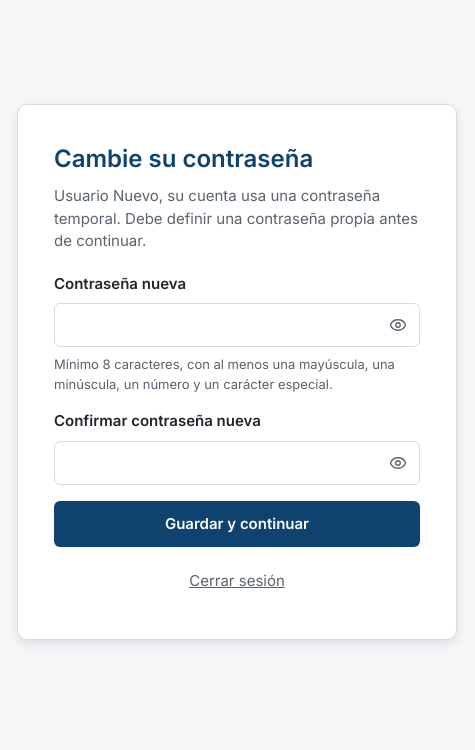
Scenario: HU-044 - Cambio obligatorio de contraseña en el primer ingreso › definir la contraseña nueva › muestra las violaciones de la politica que devuelve el backend y permanece en la pantalla
This screenshot has width=475, height=750.
Type "SinNumeroNiEspecial" into the password field labelled "Contraseña nueva" at (237, 325), box [54,303,420,347]
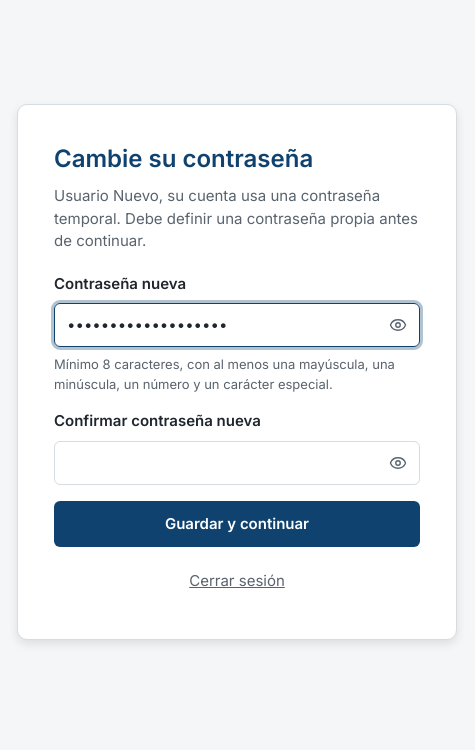
Type "SinNumeroNiEspecial" into the password field labelled "Confirmar contraseña nueva" at (237, 463), box [54,441,420,485]
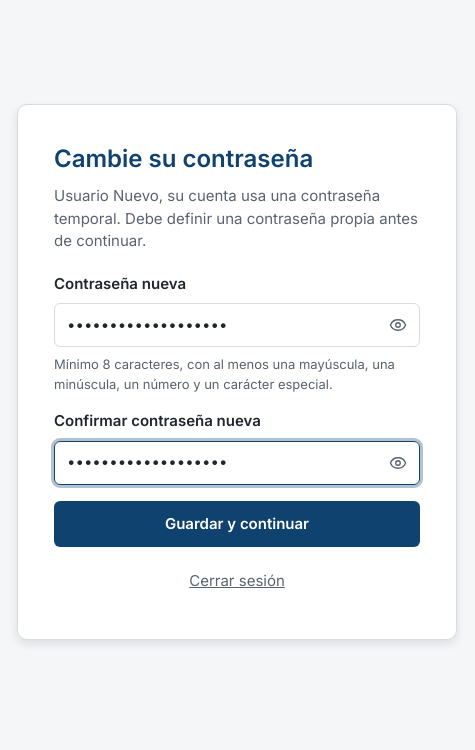
Click the button "Guardar y continuar" at (237, 525), box [54,501,420,548]
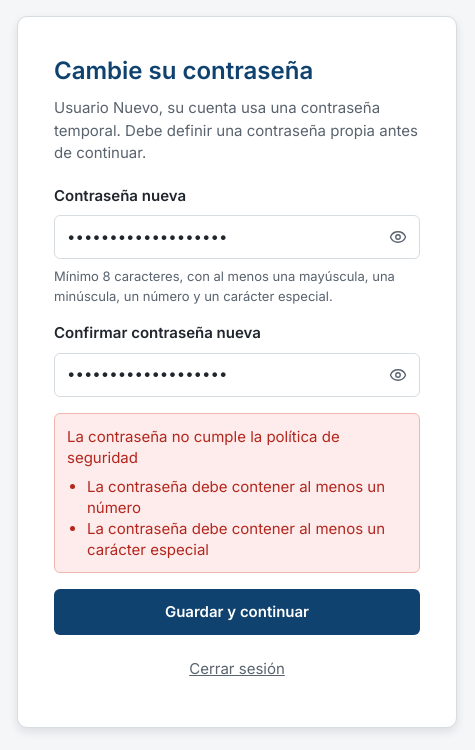
Expected: the message shows "no cumple la política de seguridad", [67,427,340,467]
Expected: the list item "La contraseña debe contener al menos un número" is shown, [87,476,407,518]
Expected: the list item "La contraseña debe contener al menos un carácter especial" is shown, [87,518,407,560]
